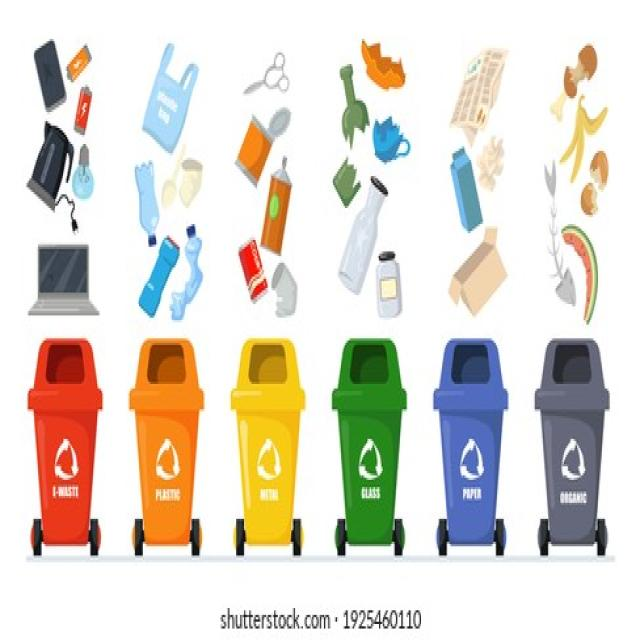cardboard: (440, 160, 508, 311)
glass: (329, 36, 407, 327), (453, 46, 514, 119)
metal: (25, 39, 117, 329), (238, 55, 300, 336)
plastic: (130, 43, 203, 327)
trash: (551, 44, 607, 316)
